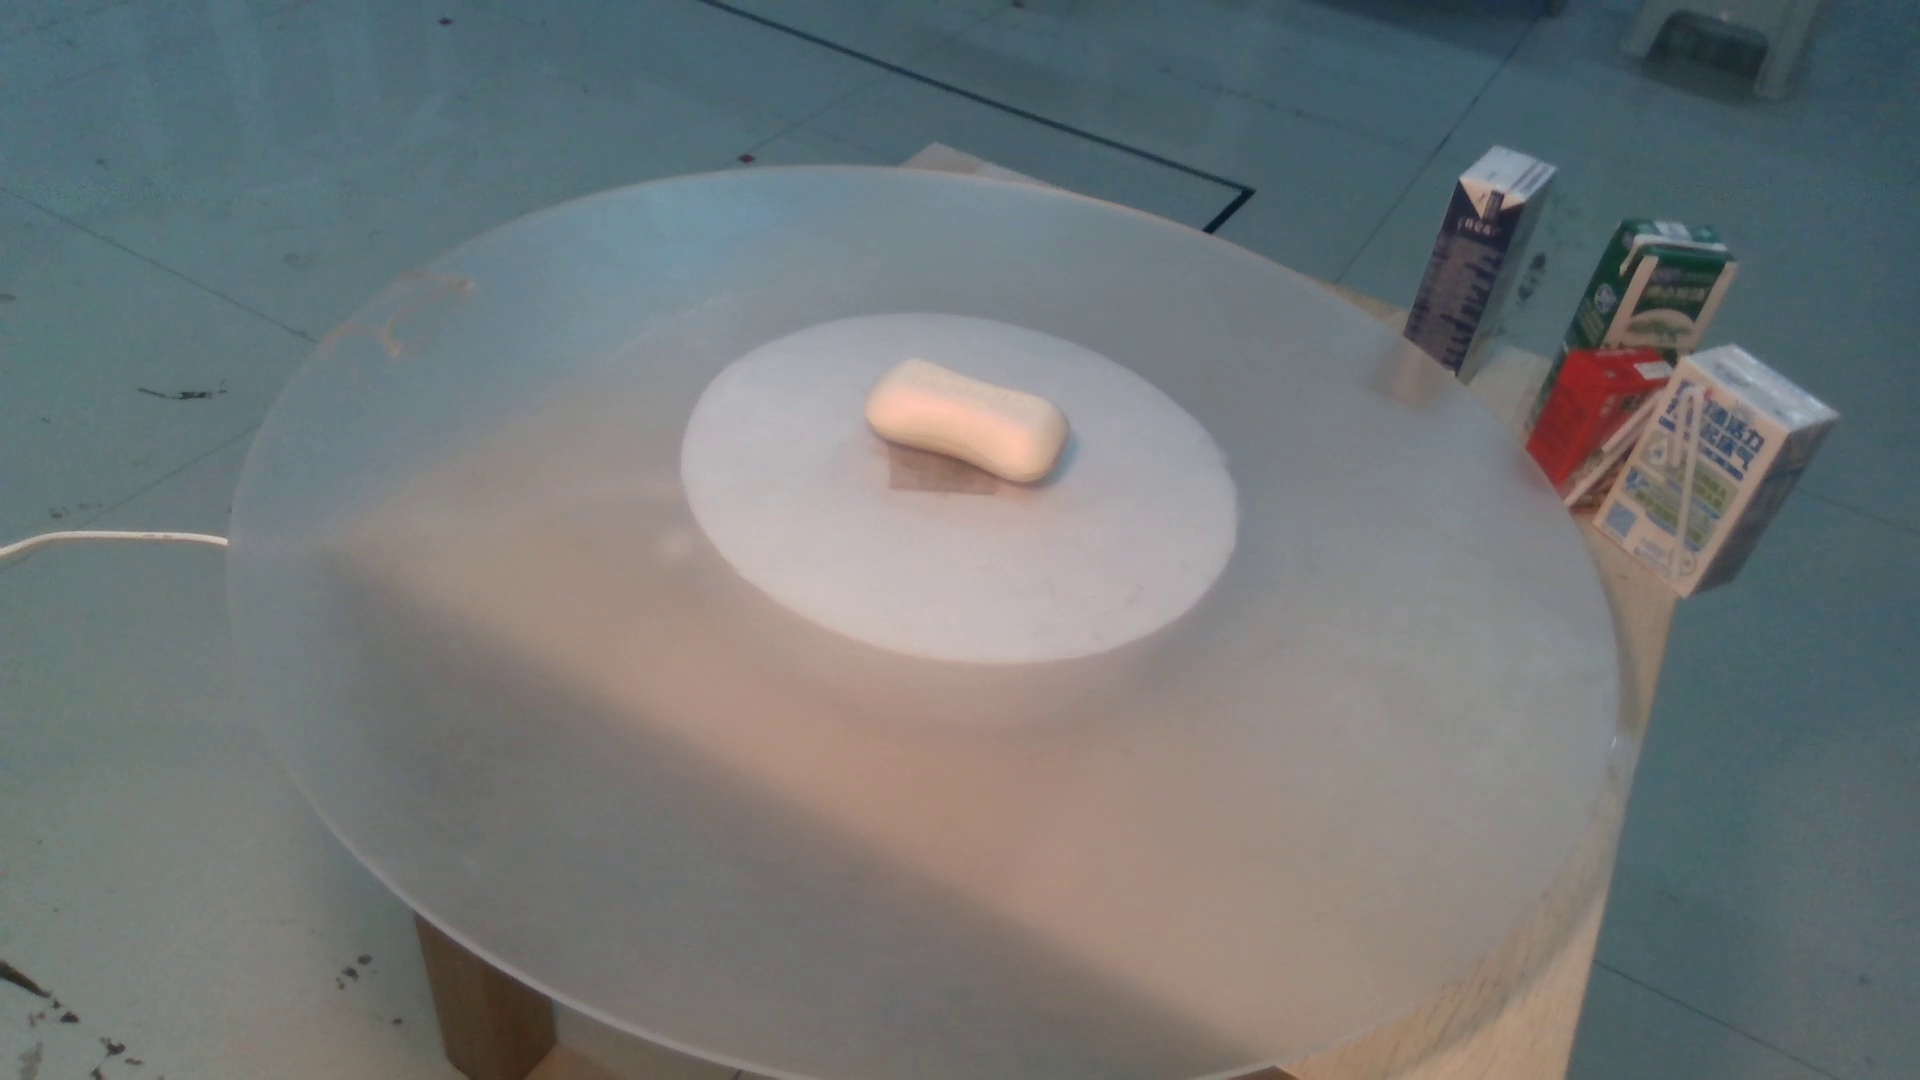CA003_1: (843, 345, 1127, 477)
